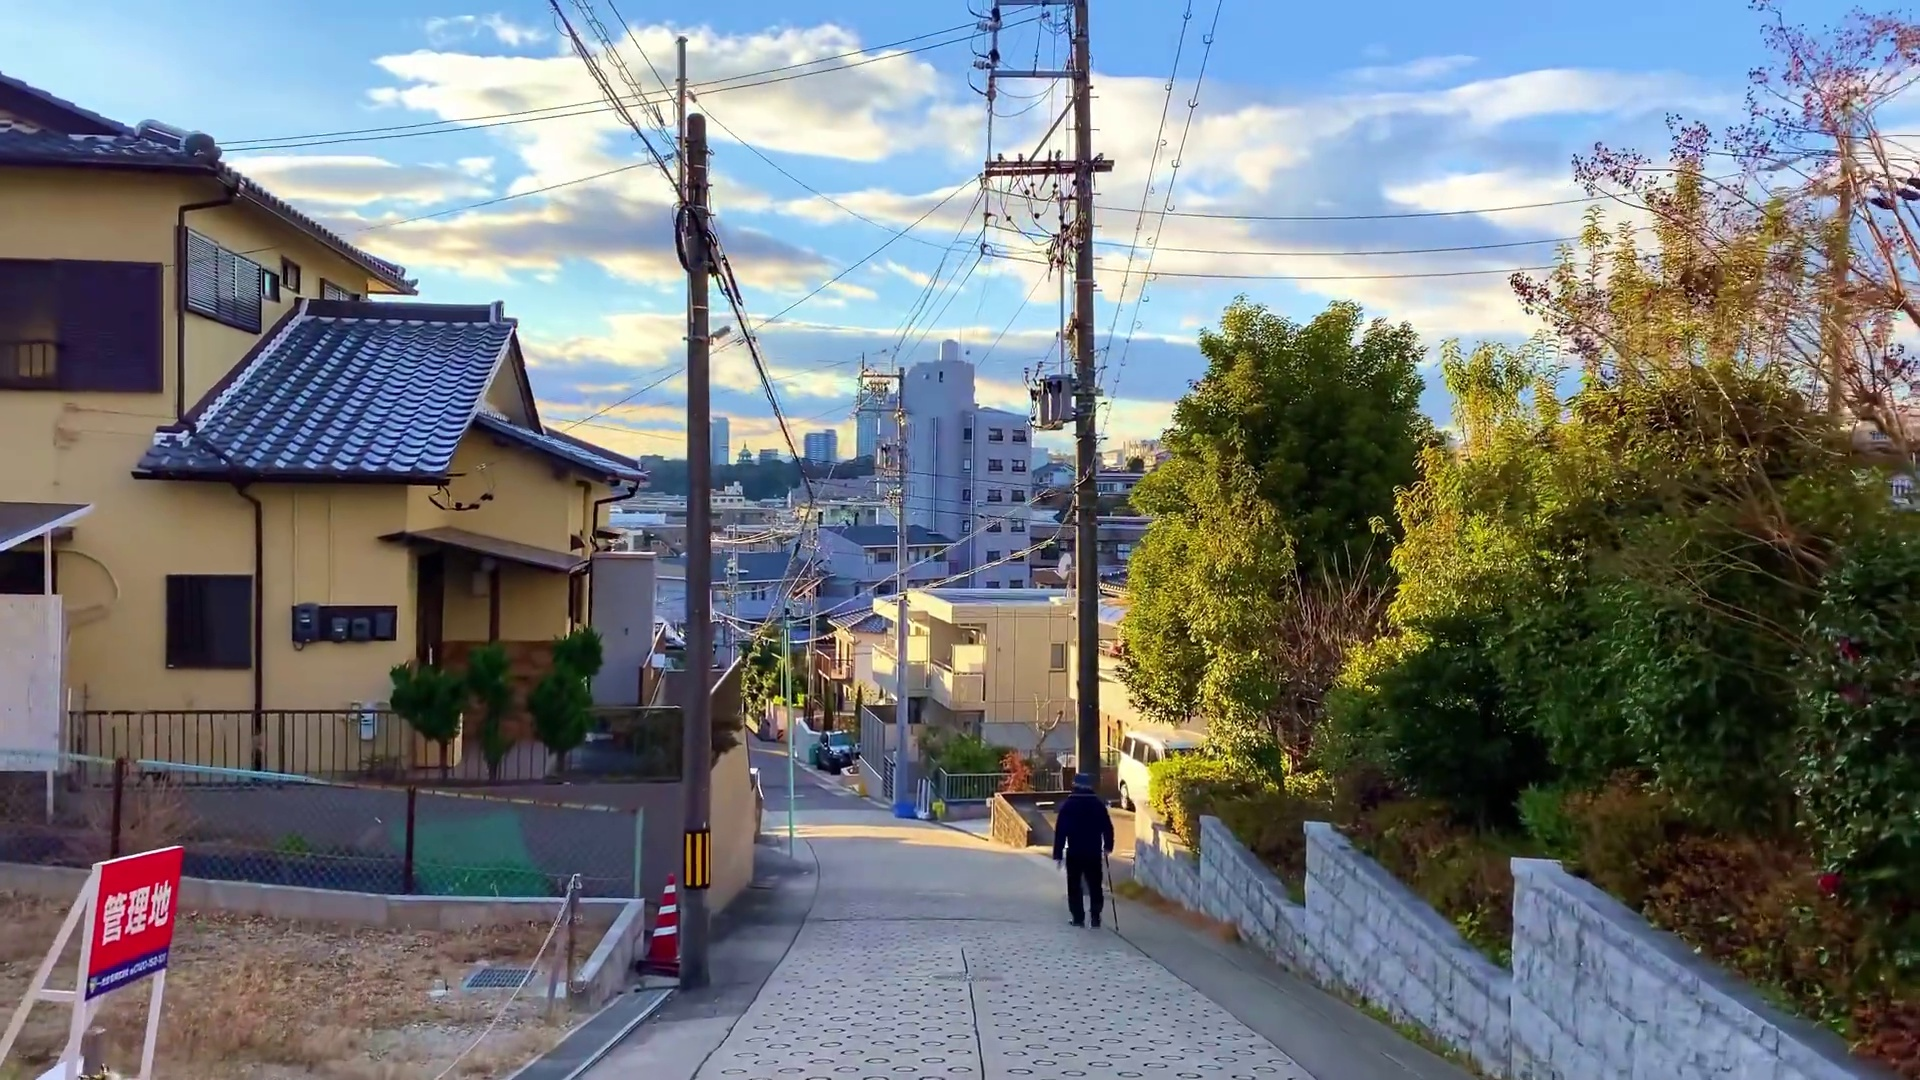person: (1052, 771, 1116, 931)
